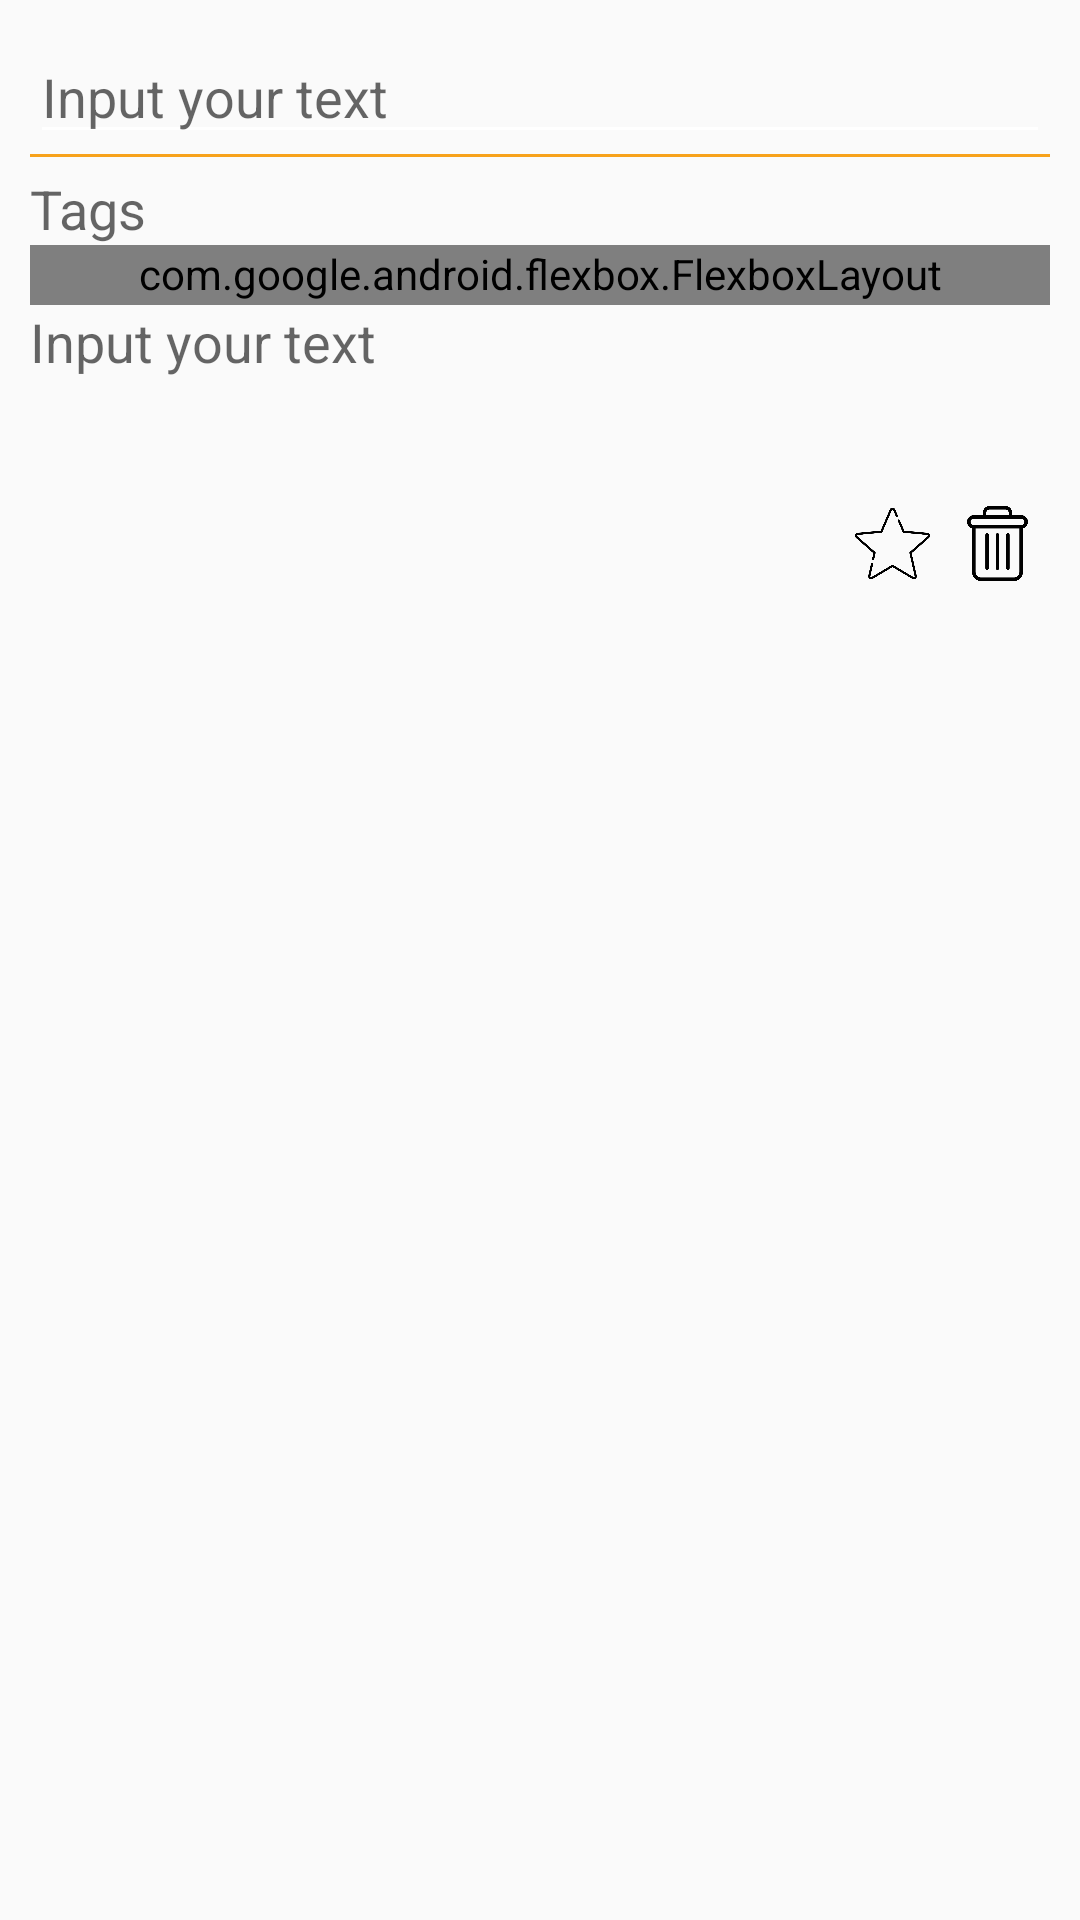

Named icons in this screenshot (1080 x 1920) and their bounding boxes, (x1,y1,x2,y2):
delete: (967,506,1028,581)
favorite not: (855,508,930,579)
